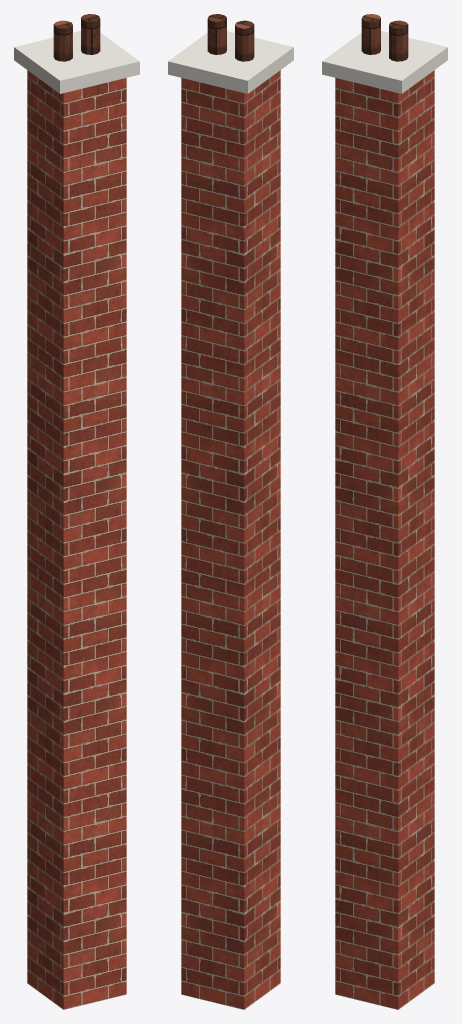
Rendered from oven_flue.glb.
The picture shows the model from 3 angles, left to right: view 1: azimuth 30°, elevation 25°; view 2: azimuth 150°, elevation 25°; view 3: azimuth 330°, elevation 25°; orthographic projection.
Visible parts, largest first — view 1: oven_flue_brick, oven_flue_trim, oven_flue_roof_tiles; view 2: oven_flue_brick, oven_flue_trim, oven_flue_roof_tiles; view 3: oven_flue_brick, oven_flue_trim, oven_flue_roof_tiles.
Boxes of the visible parts, <box> form: oven_flue_brick: <box>27,70,126,1009</box>; oven_flue_trim: <box>14,31,139,93</box>; oven_flue_roof_tiles: <box>53,14,100,61</box>; oven_flue_brick: <box>181,70,280,1009</box>; oven_flue_trim: <box>168,31,293,93</box>; oven_flue_roof_tiles: <box>207,14,254,61</box>; oven_flue_brick: <box>335,70,434,1009</box>; oven_flue_trim: <box>322,31,447,93</box>; oven_flue_roof_tiles: <box>361,14,408,61</box>.
Bounding box in the file's own units: 0.76 × 8.81 × 0.76.
3 materials, 2 textured.
